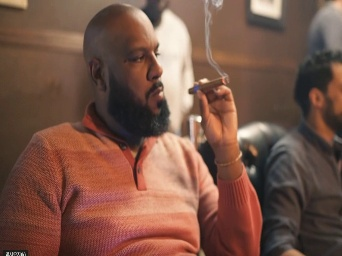smoke: (189, 74, 229, 94)
